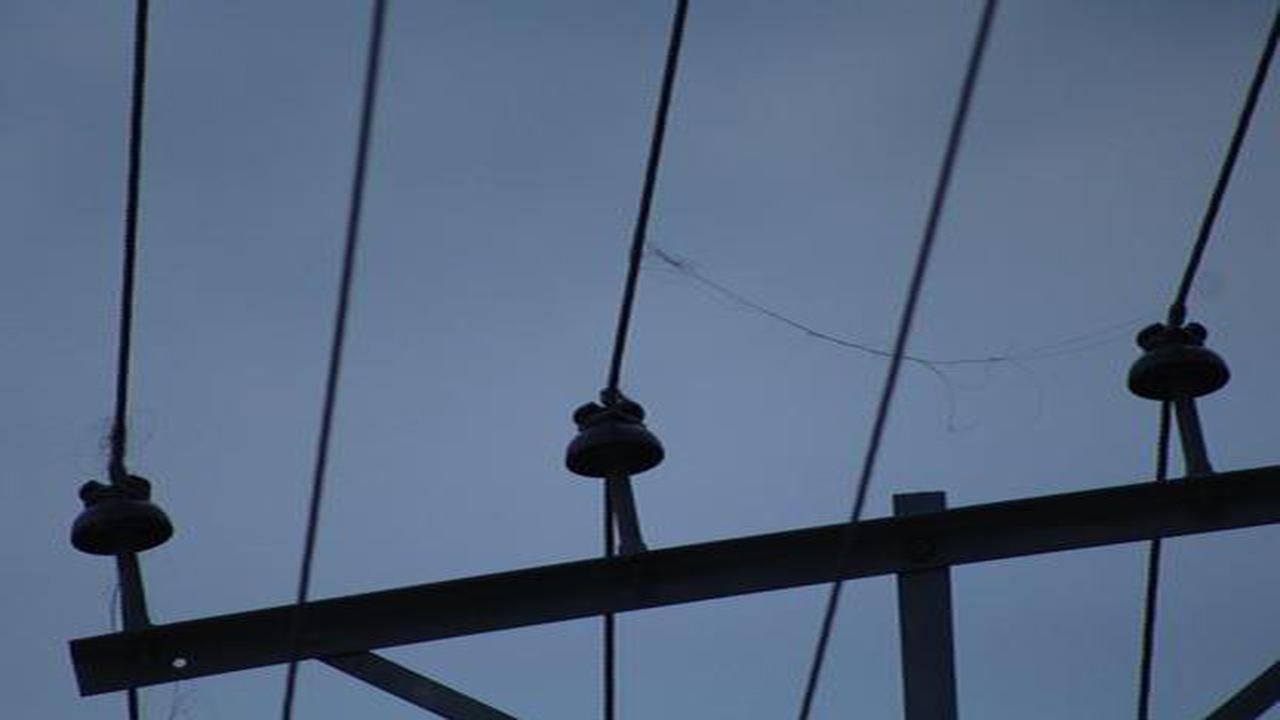insulator_pin: (1120, 311, 1239, 406), (558, 389, 673, 483), (65, 469, 178, 561)
